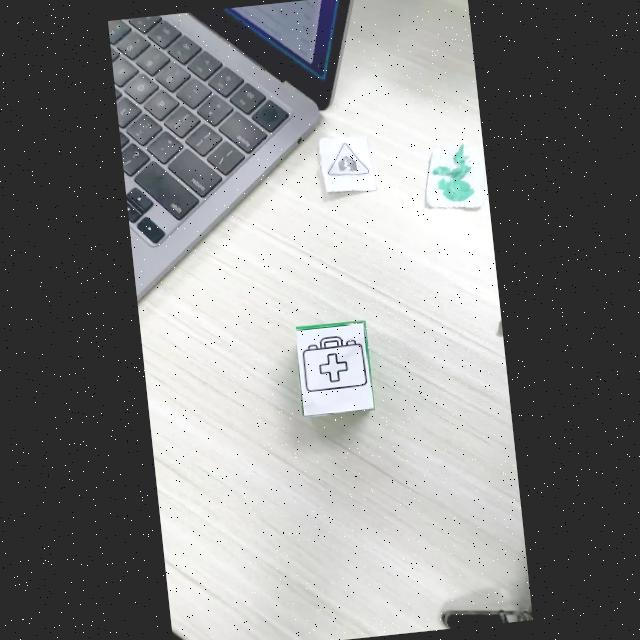Medkit: (302, 337, 367, 392)
